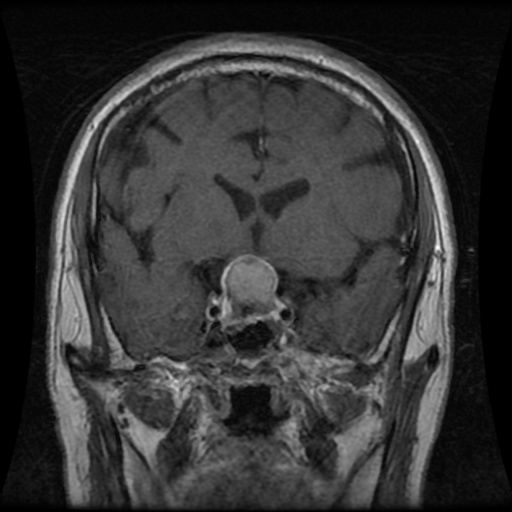pituitary: (223, 259, 279, 326)
